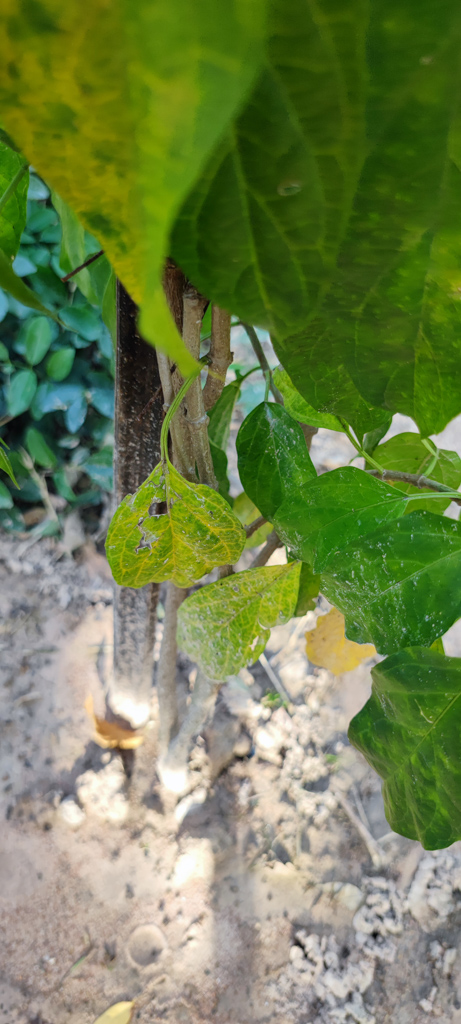Pepper yellow leaf: (4, 5, 262, 388), (105, 464, 240, 596), (171, 560, 301, 696)
